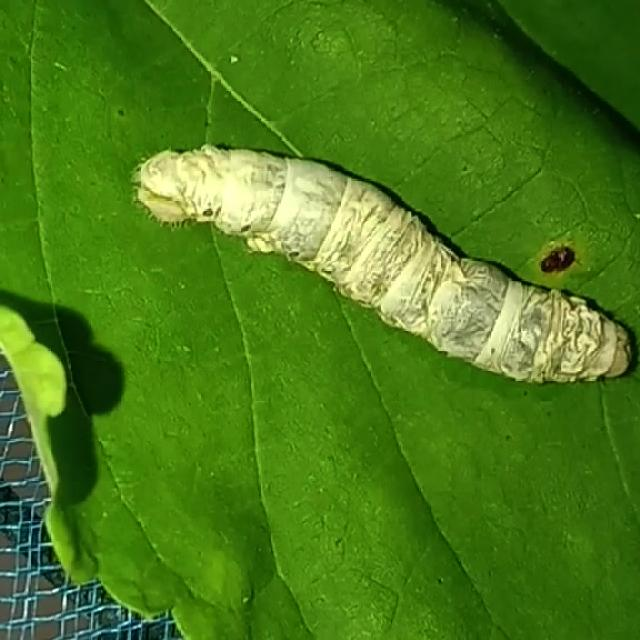Grasserie: (118, 112, 640, 396)
